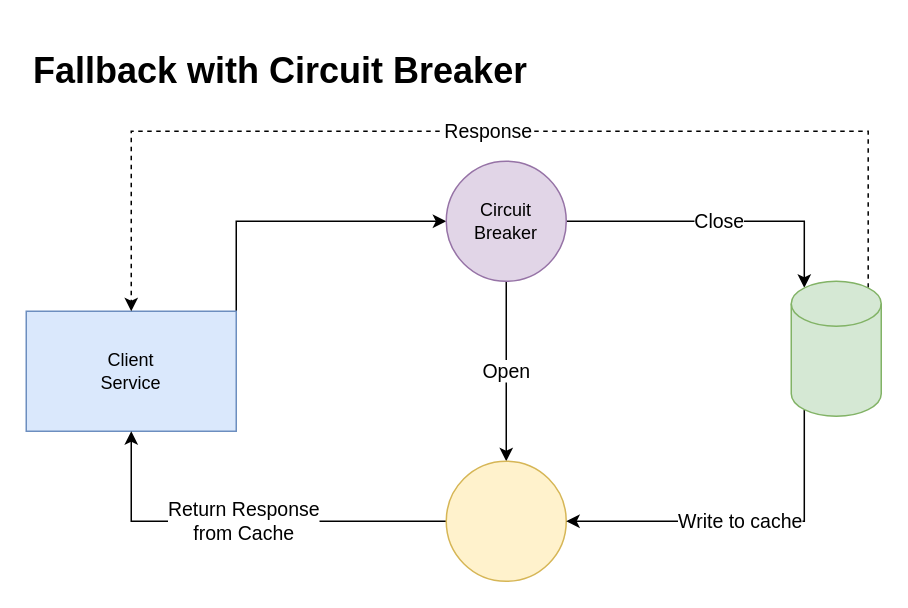
Some shapes in this 908 by 608 pixel diagram are drawn without their labels. The centre of each missing label's shape, as x and y in pixels:
"Cache" belongs at point (505, 520).
"Data Source" belongs at point (835, 348).
